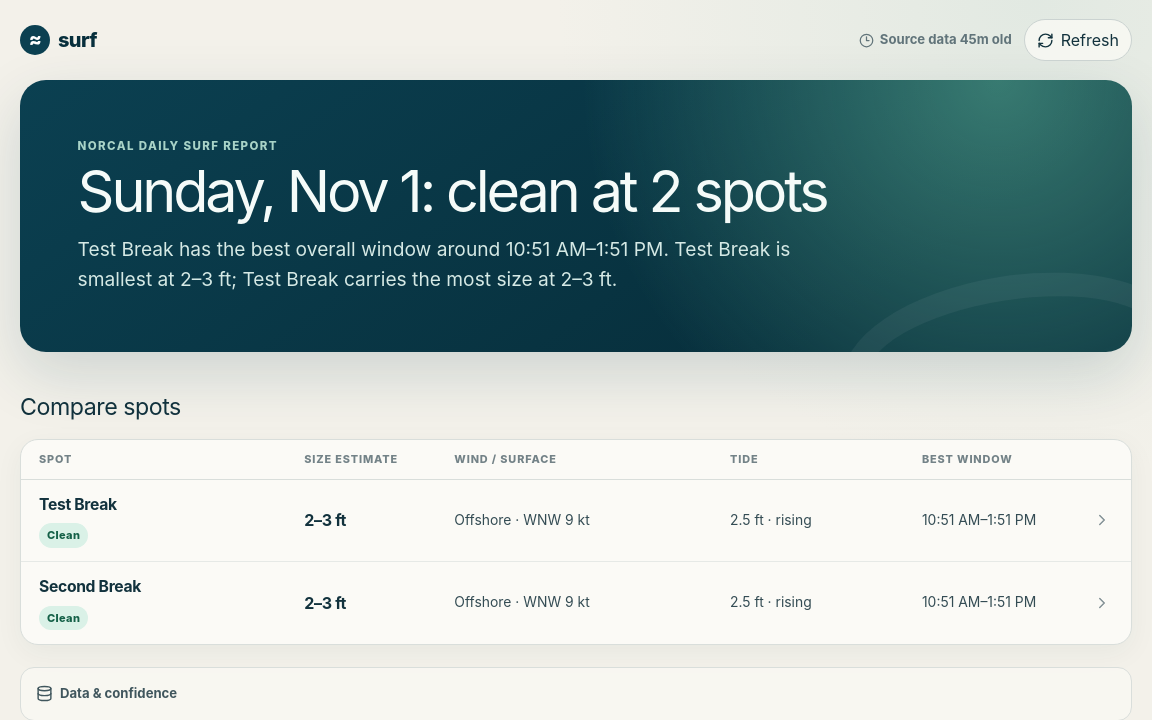
Test: App › names multiple delayed spots with a counted subject
Expected: the link "Second Break" is shown, x1=21 y1=562 x2=1131 y2=644
Click the button "Refresh". click: (1078,40)
box: x1=1024 y1=19 x2=1132 y2=61
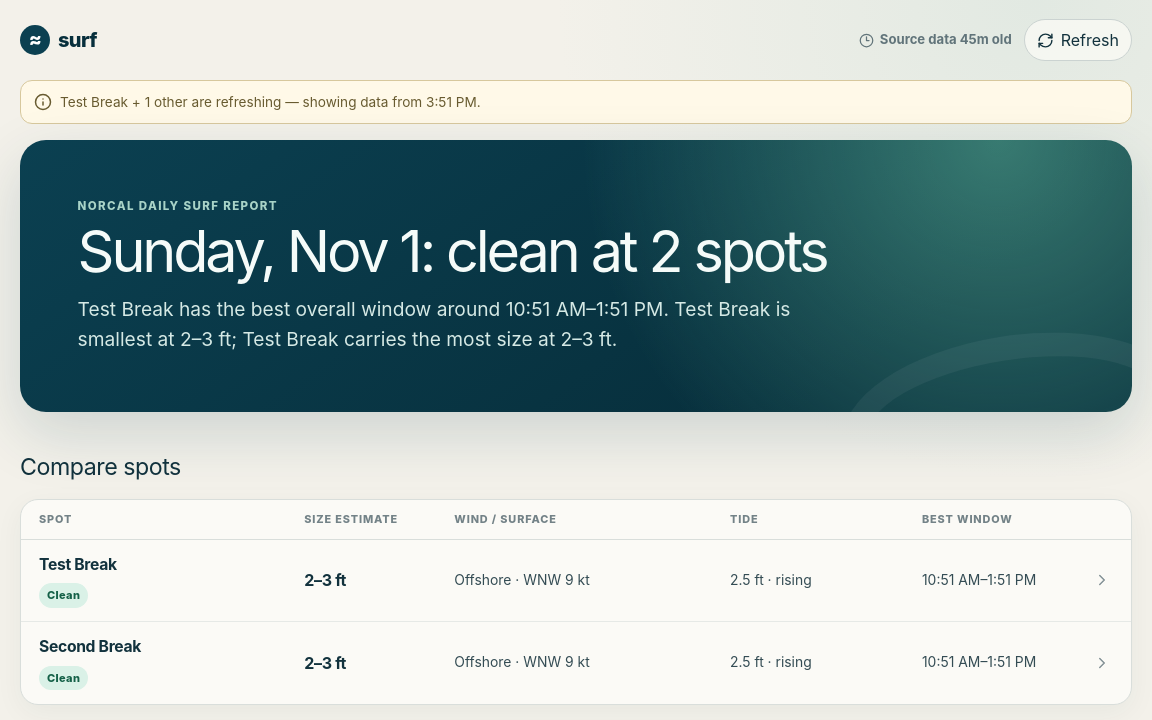
Result: the text "Test Break + 1 other are refreshing — showing data from 3:51 PM." is shown at x1=20 y1=80 x2=1132 y2=124
